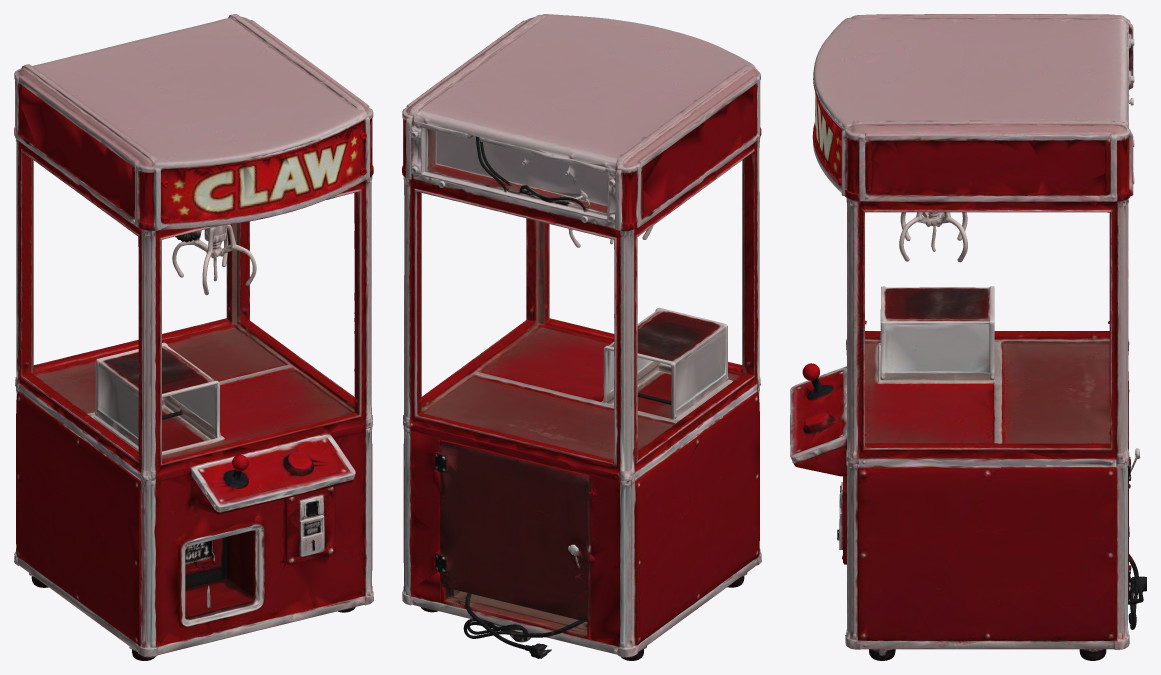
Rendered from claw_machine.glb.
3 views of the same model, side by side, from view 1: azimuth 30°, elevation 25°; view 2: azimuth 150°, elevation 25°; view 3: azimuth 270°, elevation 25° (orthographic). The views are drawn at different scales.
Parts seen in each view (by area): view 1: tripo_node_bce61bfe-72ab-438e-9c76-f0304da93531; view 2: tripo_node_bce61bfe-72ab-438e-9c76-f0304da93531; view 3: tripo_node_bce61bfe-72ab-438e-9c76-f0304da93531.
Part boxes in pixels (x1,y1,x2,y2): tripo_node_bce61bfe-72ab-438e-9c76-f0304da93531: [14, 14, 373, 660]; tripo_node_bce61bfe-72ab-438e-9c76-f0304da93531: [402, 14, 761, 660]; tripo_node_bce61bfe-72ab-438e-9c76-f0304da93531: [790, 14, 1146, 660].
Bounding box in the file's own units: 0.4756 × 0.9808 × 0.5879.
Materials: 1 (1 with a texture image).
